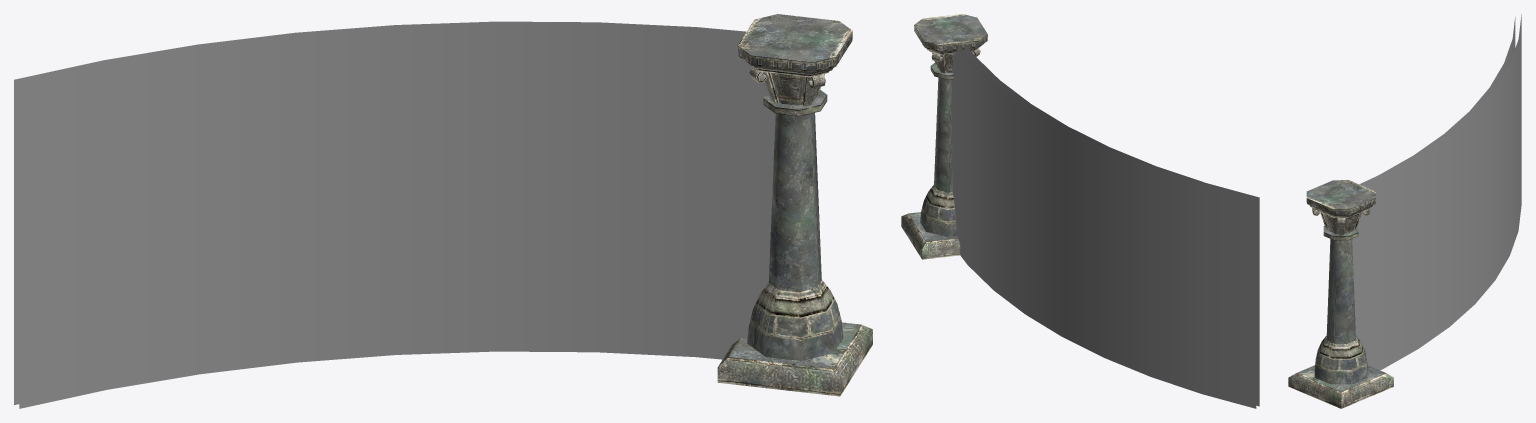
The model's file is FBX_Wall_Corner_Half_LOD_01.fbx.
3 renders of one model, left to right at view 1: azimuth 30°, elevation 25°; view 2: azimuth 150°, elevation 25°; view 3: azimuth 270°, elevation 25°, orthographic. The views are drawn at different scales.
Visible parts, largest first — view 1: Wall_Corner_Front, Pillar, BaseSphere, Base, Wall_Corner_Back, Top, CenterDecor, RingDecor; view 2: Wall_Corner_Back, Wall_Corner_Front, Top, Pillar, Base, BaseSphere; view 3: Wall_Corner_Back, Pillar, Base, BaseSphere, Top, Wall_Corner_Front, CenterDecor, RingDecor.
Part boxes in pixels (x1,y1,x2,y2): Wall_Corner_Front: (19,26,775,408); Pillar: (768,112,821,291); BaseSphere: (747,279,843,360); Base: (717,322,872,396); Wall_Corner_Back: (14,21,746,404); Top: (737,14,852,77); CenterDecor: (771,73,819,105); RingDecor: (763,89,827,116); Wall_Corner_Back: (951,44,1256,408); Wall_Corner_Front: (963,43,1259,406); Top: (914,14,987,54); Pillar: (934,77,952,192); Base: (901,212,960,259); BaseSphere: (920,185,956,236); Wall_Corner_Back: (1352,14,1521,370); Pillar: (1326,239,1355,343); Base: (1288,365,1393,408); BaseSphere: (1314,336,1367,384); Top: (1306,180,1375,217); Wall_Corner_Front: (1359,17,1515,186); CenterDecor: (1323,213,1358,233); RingDecor: (1323,225,1358,240).
Bounding box in the file's own units: 794 × 350 × 385.
